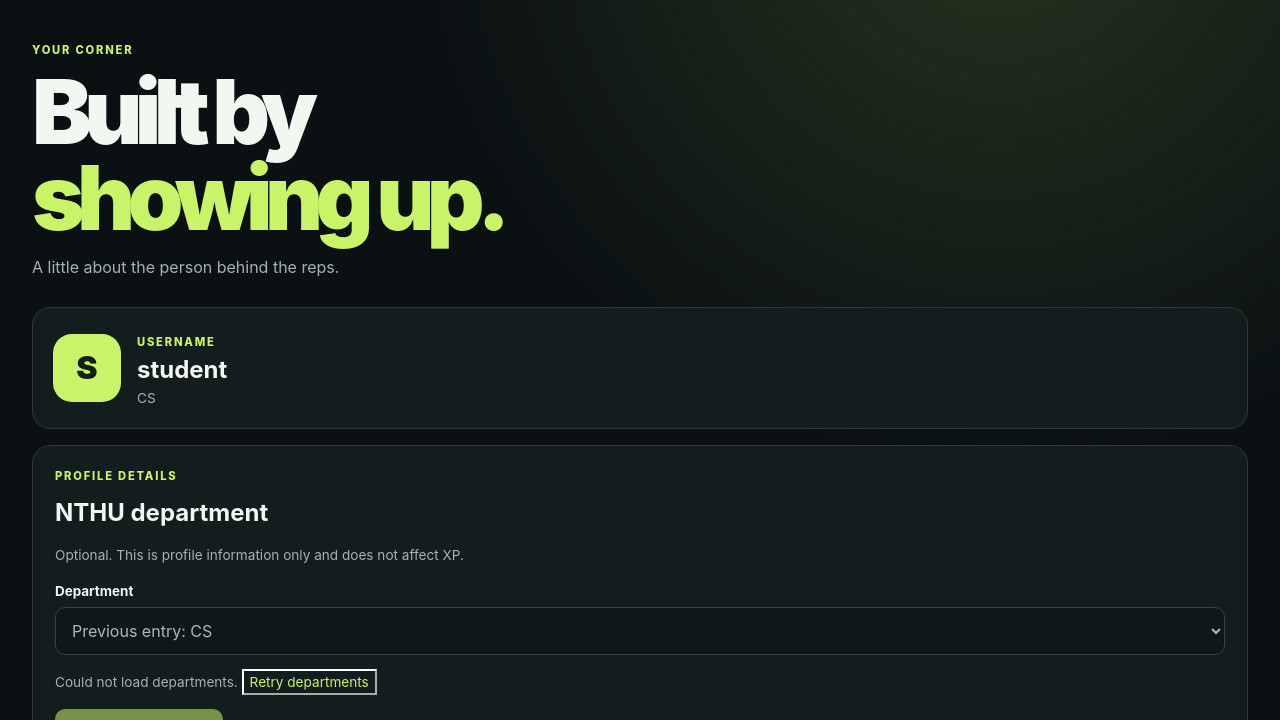
it: catalog failure offers retry without losing an existing department
Check: the message "Could not load departments. Retry departments" is shown, box [55, 669, 377, 695]
Check: the dropdown is disabled, box [55, 607, 1225, 655]
Click the button "Retry departments": click(309, 682) [242, 669, 377, 695]
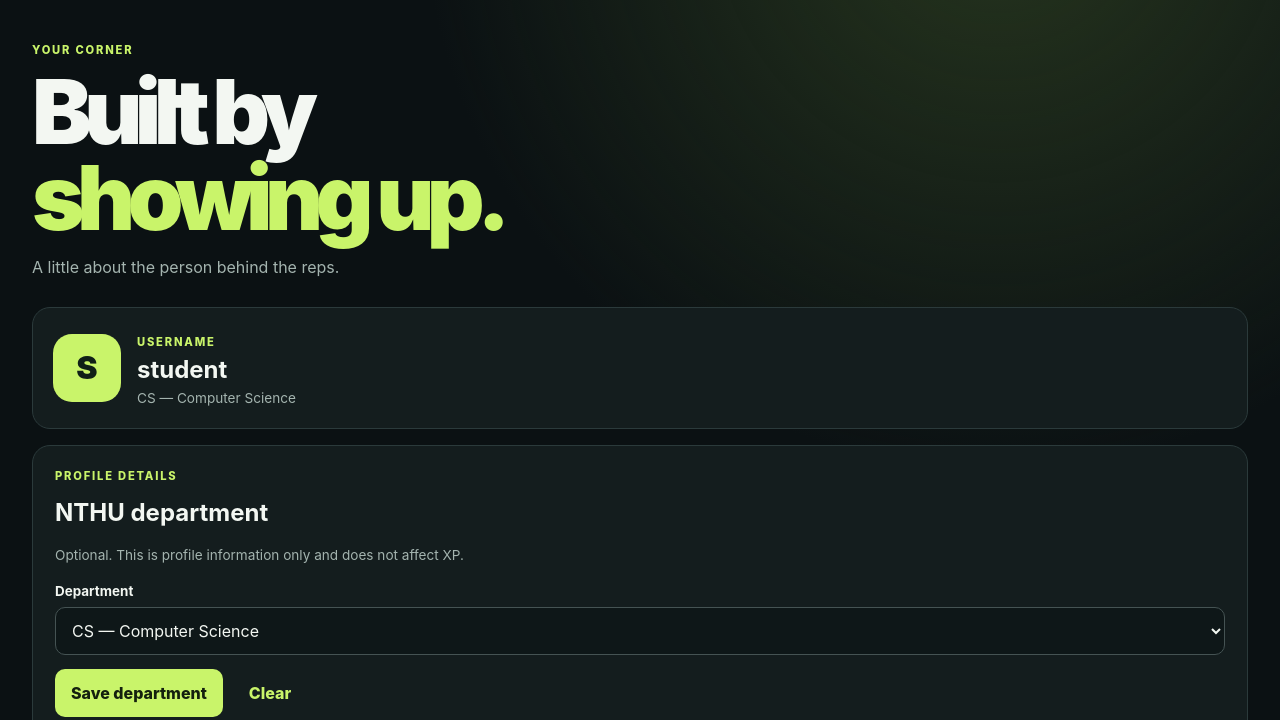
Check: the dropdown is enabled, box [55, 607, 1225, 655]
